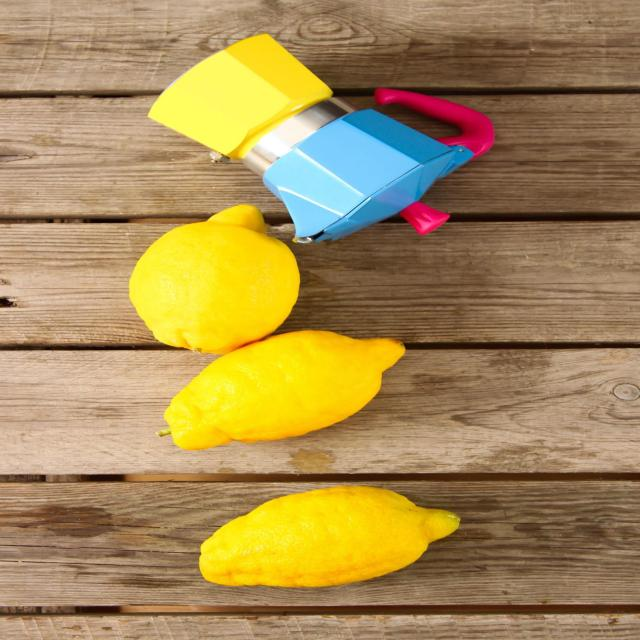lemon: (154, 325, 410, 454), (193, 483, 462, 590)
